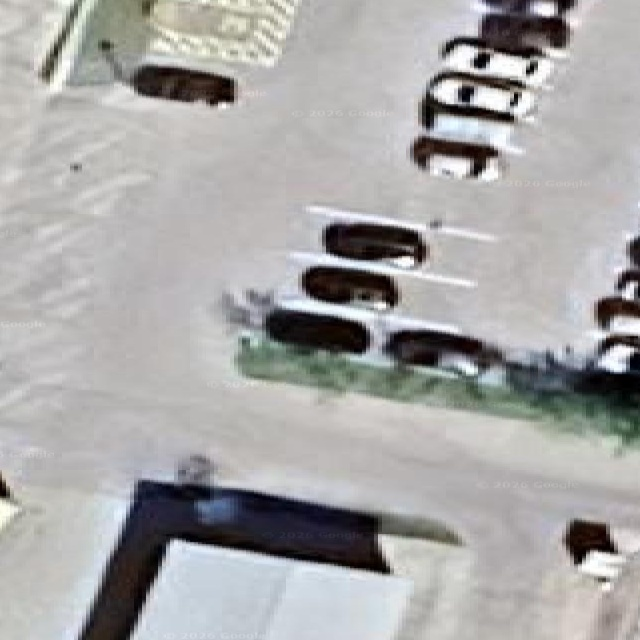car: (263, 296, 373, 353), (440, 36, 552, 87), (384, 326, 500, 375), (420, 95, 515, 151), (428, 71, 535, 119), (323, 220, 427, 267), (264, 307, 367, 352), (300, 264, 399, 310), (564, 520, 627, 590), (131, 63, 235, 104), (412, 136, 504, 180), (479, 12, 569, 55), (564, 519, 616, 564), (577, 551, 627, 591), (595, 295, 639, 335), (596, 333, 639, 372), (476, 0, 575, 16), (0, 475, 19, 531), (615, 268, 639, 300), (627, 236, 639, 267), (0, 473, 9, 499)
